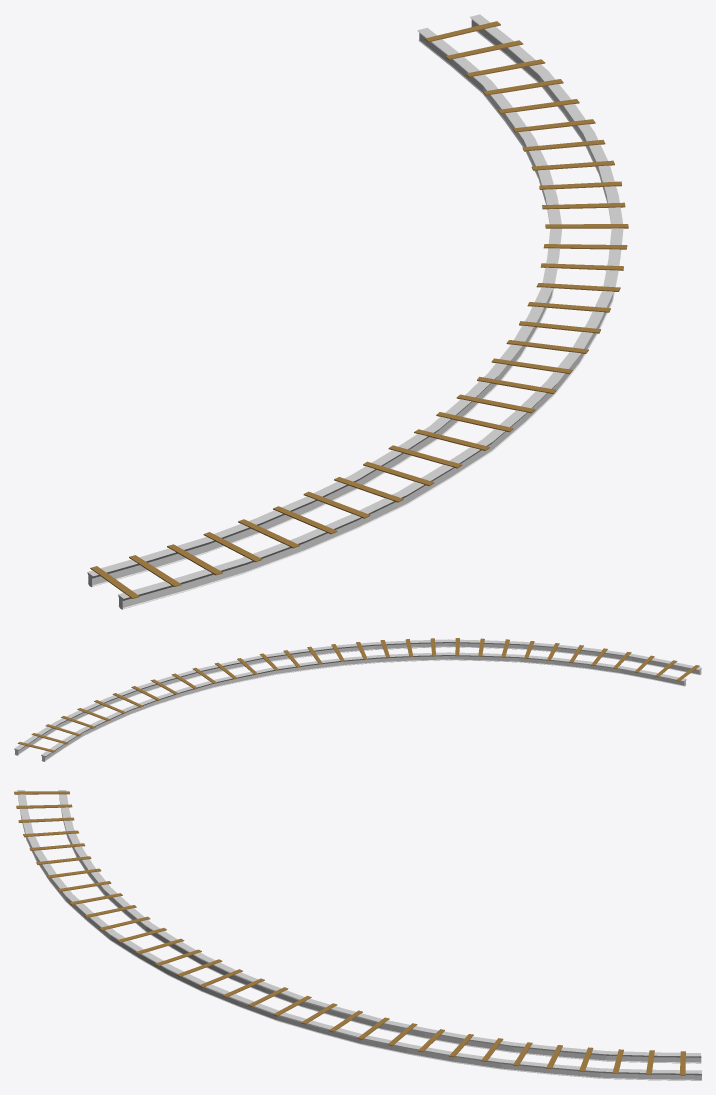
The model's file is 90dgTurn.fbx.
3 renders of one model, top to bottom at view 1: azimuth 30°, elevation 25°; view 2: azimuth 150°, elevation 25°; view 3: azimuth 270°, elevation 25°, orthographic. The views are drawn at different scales.
Visible parts, largest first — view 1: Top, Bot; view 2: Top, Bot; view 3: Top, Bot.
Part boxes in pixels (left/top/right/bottom): Top: left=87, top=14, right=623, bottom=609; Bot: left=90, top=21, right=628, bottom=598; Top: left=14, top=639, right=701, bottom=761; Bot: left=17, top=638, right=699, bottom=752; Top: left=17, top=790, right=701, bottom=1080; Bot: left=14, top=791, right=685, bottom=1075.
Bounding box in the file's own units: 4035 × 58.2 × 4109.
